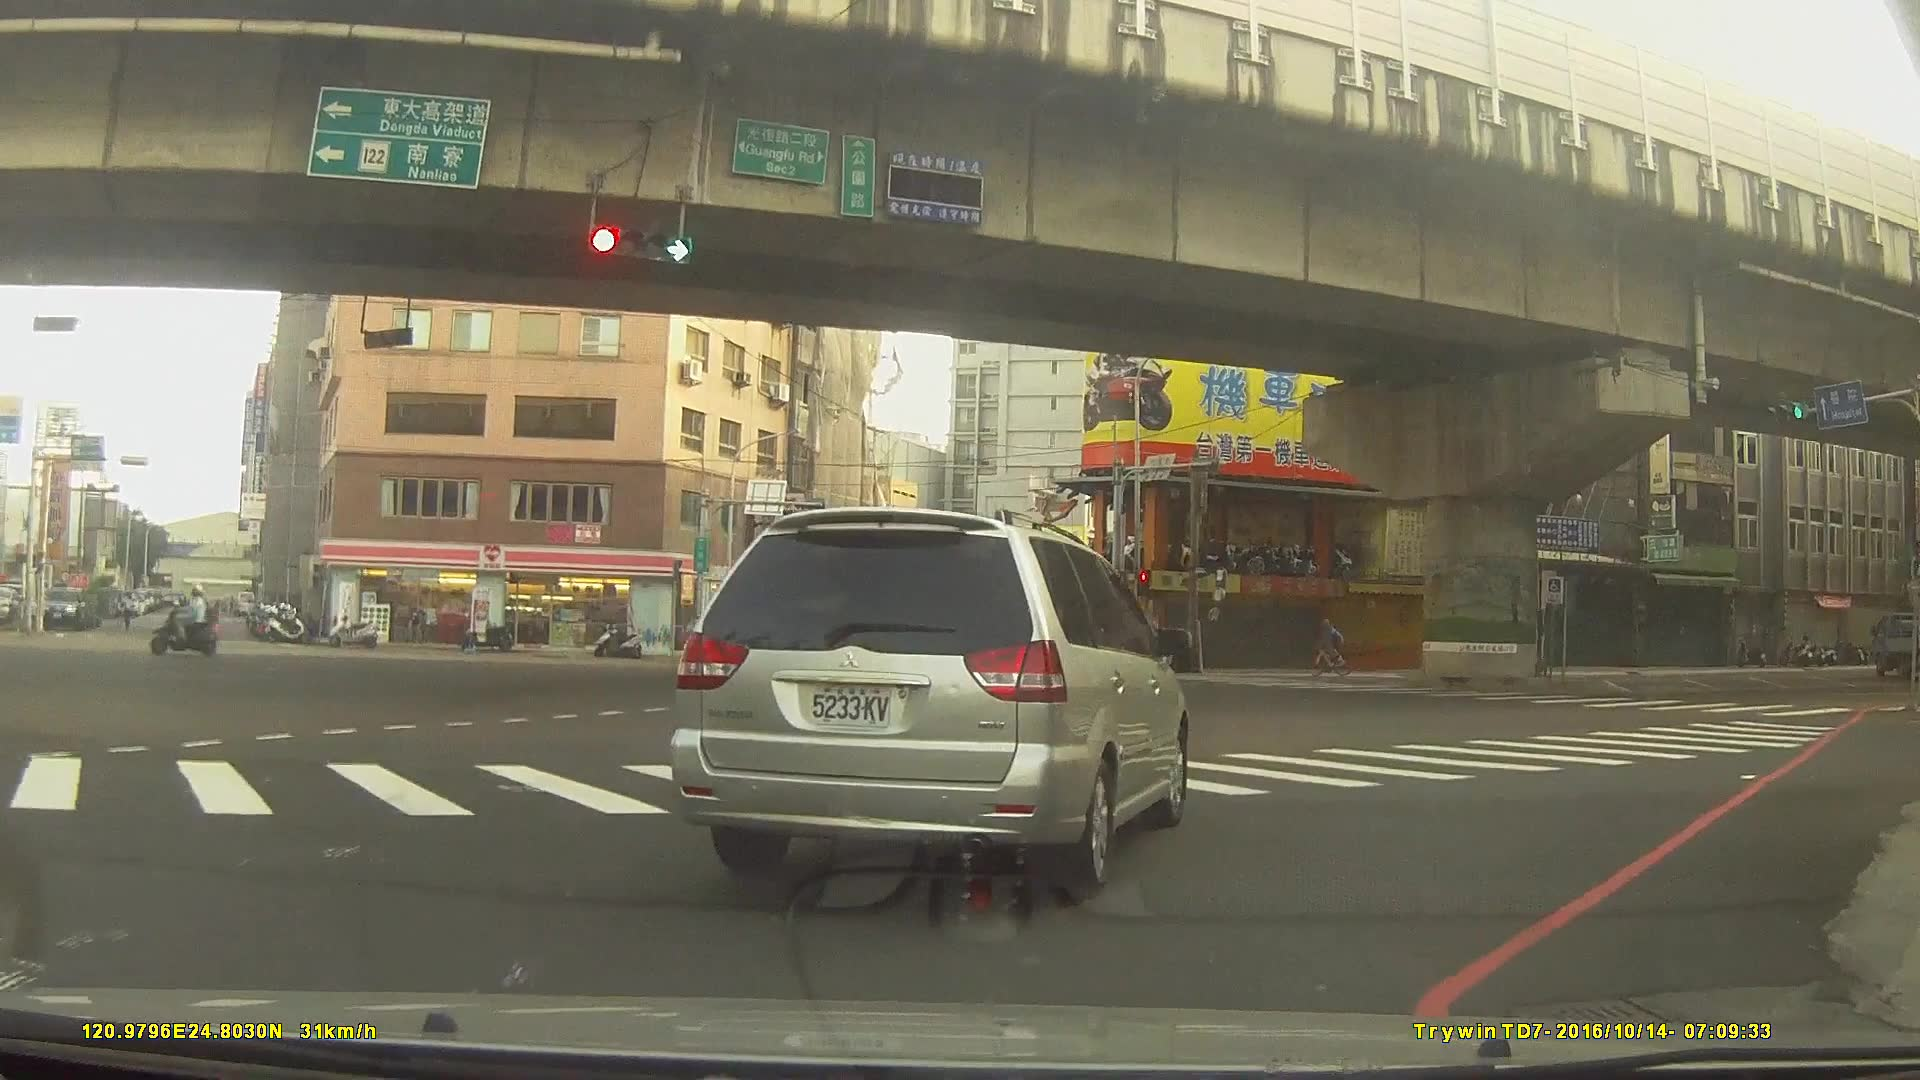rider: (153, 585, 219, 659), (1299, 617, 1355, 679)
vehicle: (670, 506, 1189, 894), (1864, 614, 1920, 678), (854, 630, 925, 670), (38, 587, 83, 632), (543, 606, 605, 633), (187, 596, 221, 624)
